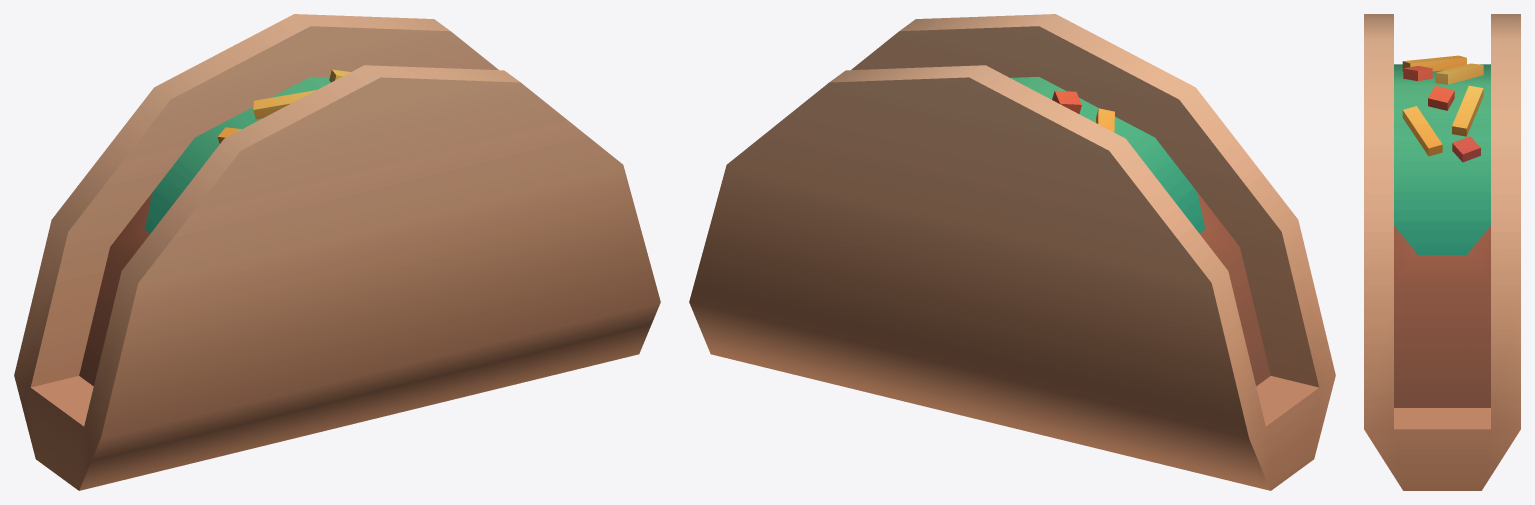
File: taco.glb
3 renders of one model, left to right at view 1: azimuth 30°, elevation 25°; view 2: azimuth 150°, elevation 25°; view 3: azimuth 270°, elevation 25°, orthographic. The views are drawn at different scales.
Visible parts, largest first — view 1: taco; view 2: taco; view 3: taco.
Boxes of the visible parts, x1,y1,x2,y2 form: taco: [14, 14, 660, 490]; taco: [689, 14, 1335, 490]; taco: [1364, 14, 1520, 490].
Size of the model in its own units: 0.4256 by 0.2622 by 0.114.
Materials: 1 (1 with a texture image).
